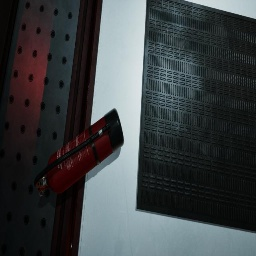FireExtinguisher ]: (34, 108, 124, 196)
